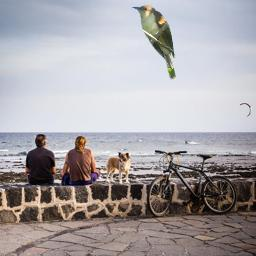Cuckoo: (130, 4, 177, 82)
